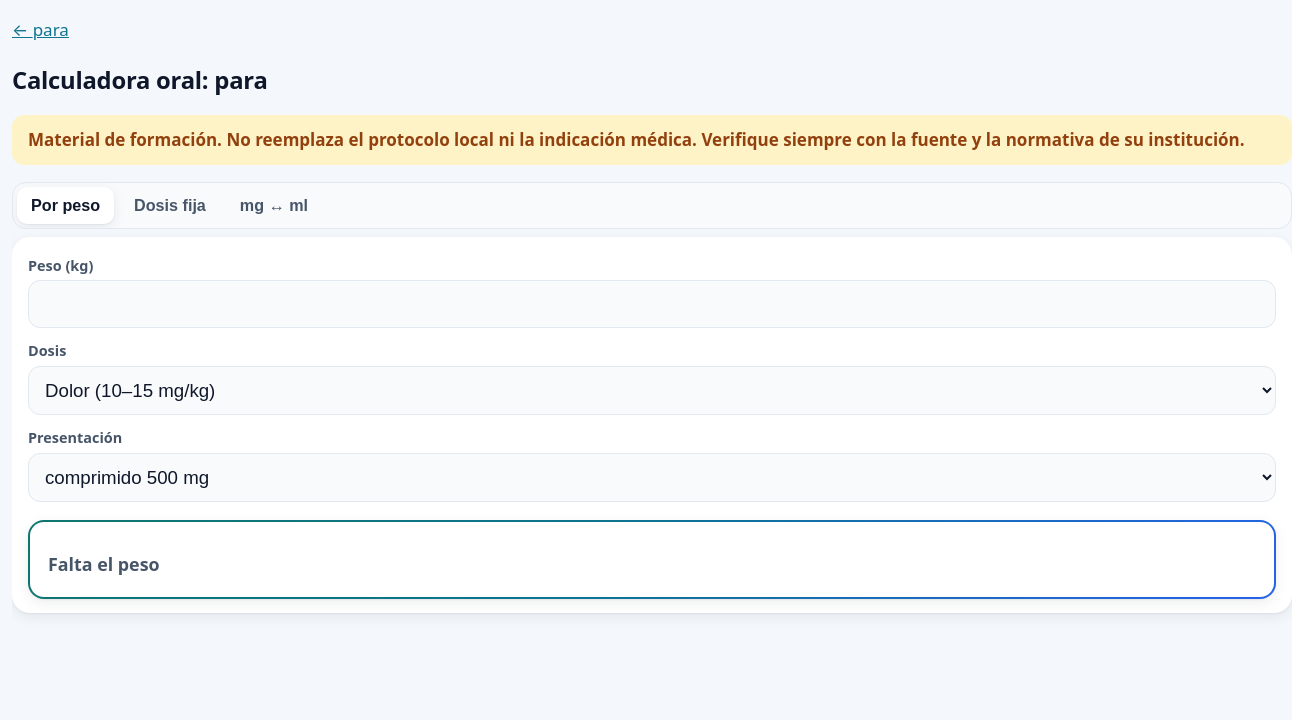
Test: CalculadoraOral › mg ↔ ml en ambos sentidos con la misma concentración
Click the tab "mg ↔ ml" at (274, 205), box [226,187,322,224]
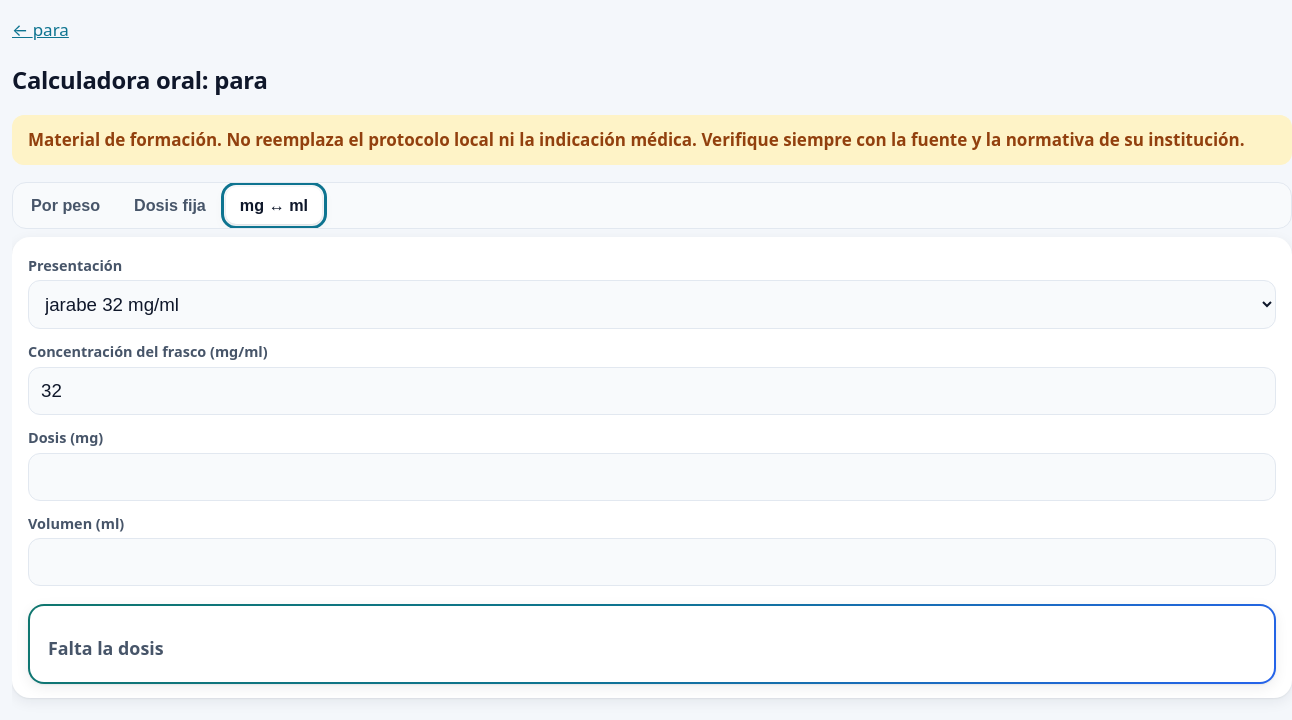
Select "jarabe 100 mg/ml" in the dropdown labelled "Presentación" at (652, 305), box [28,280,1276,329]
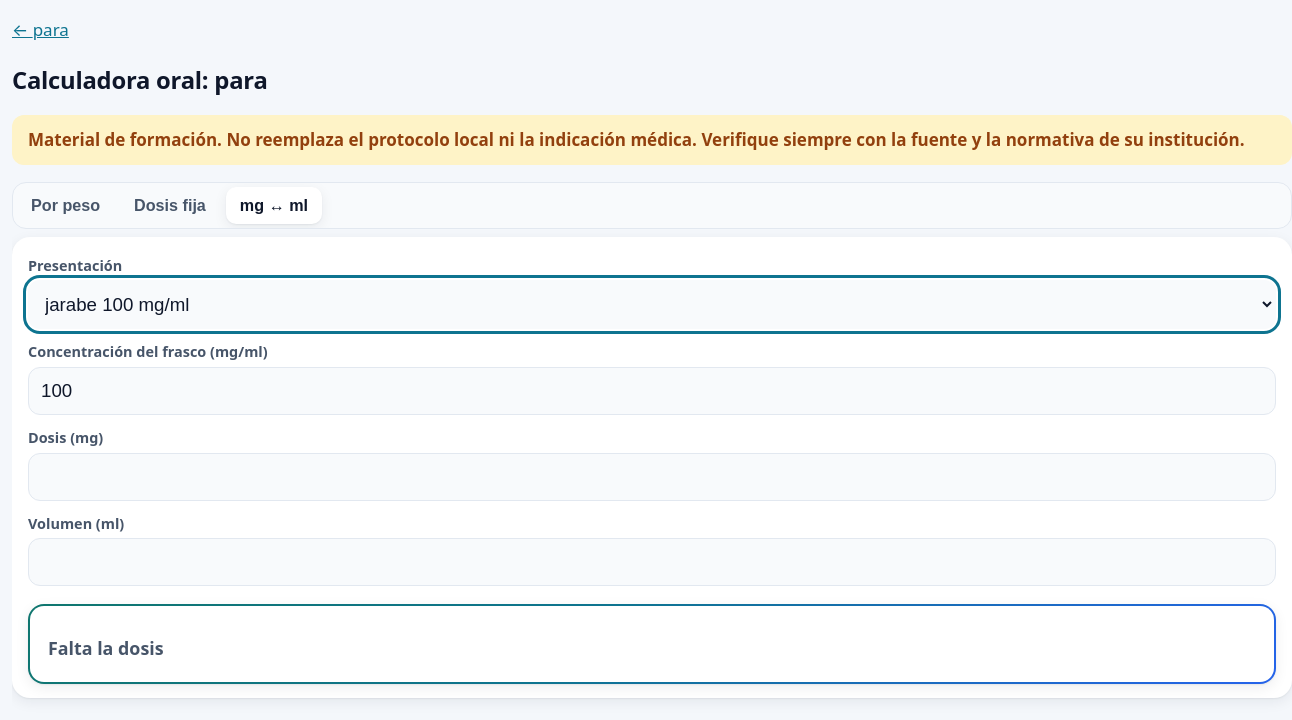
Type "150" into the field labelled "Dosis (mg)" at (652, 477), box [28,453,1276,501]
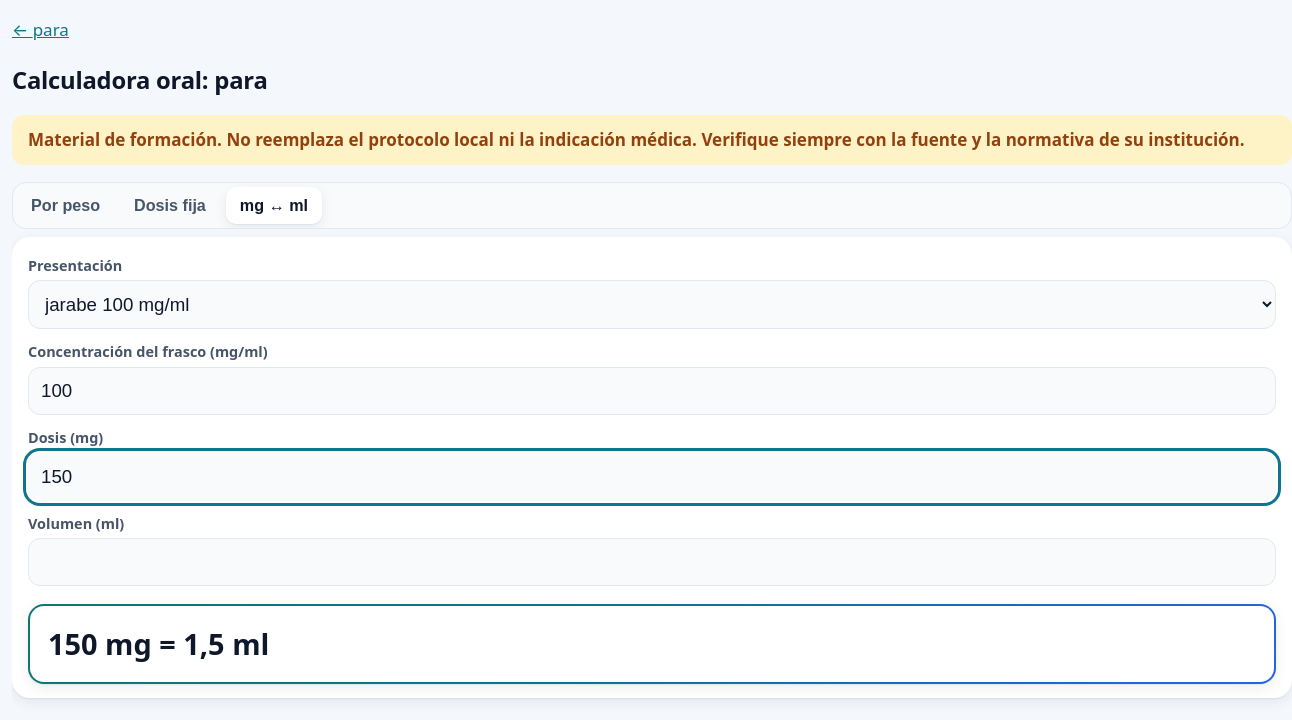
Expected: the message shows "1,5 ml", [28,604,1276,684]
Clear the field labelled "Dosis (mg)" at (652, 477), box [28,453,1276,501]
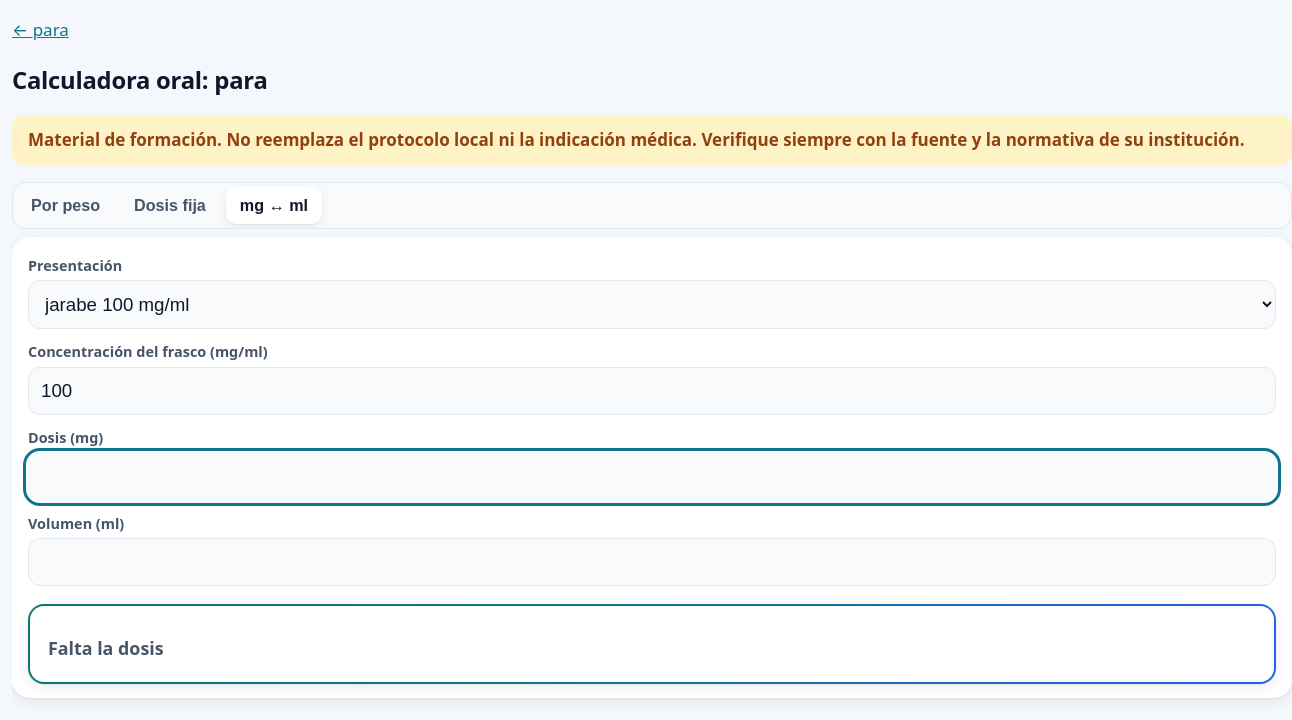
Type "1,5" into the field labelled "Volumen (ml)" at (652, 562), box [28,538,1276,586]
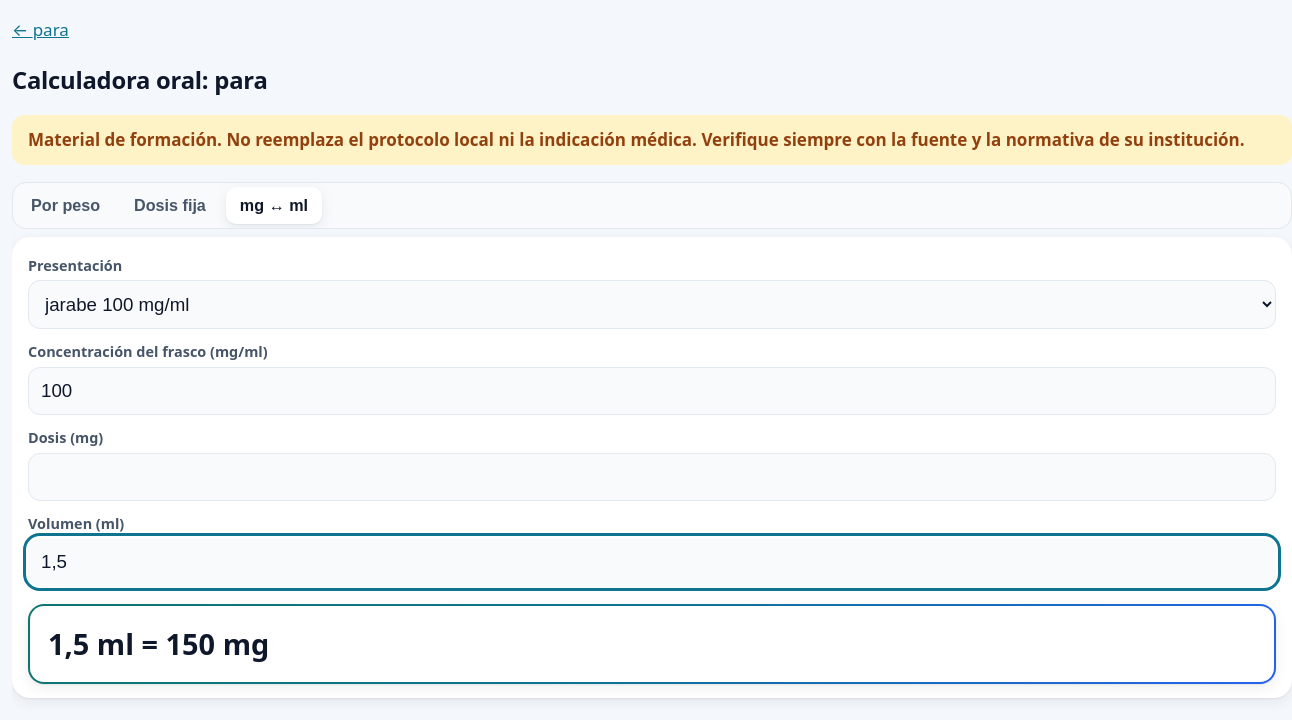
Expected: the message shows "150 mg", [28,604,1276,684]
